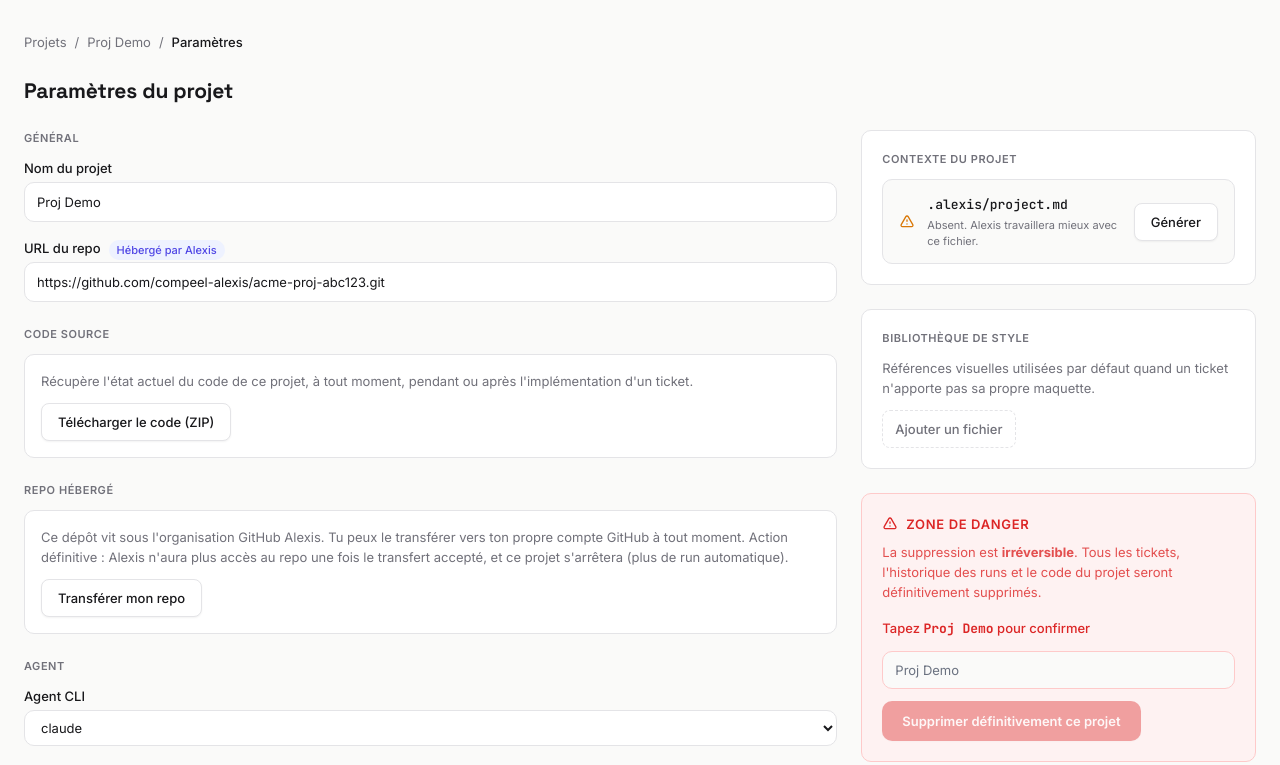
ProjectSettingsPage › transfers the hosted repo after confirmation
Click the button "Transférer mon repo" at (122, 598), box [41, 579, 202, 617]
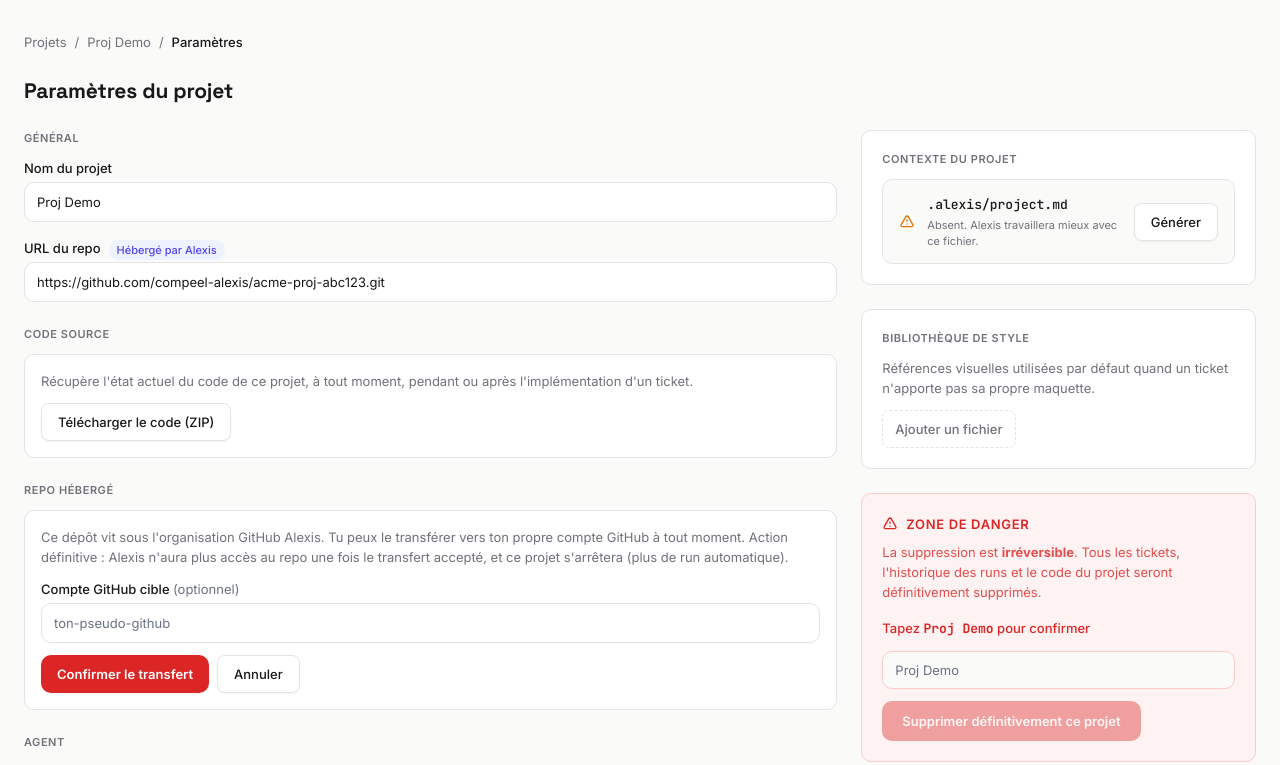
Type "octocat" into the field labelled "Compte GitHub cible (optionnel)" at (431, 623), box [41, 603, 820, 643]
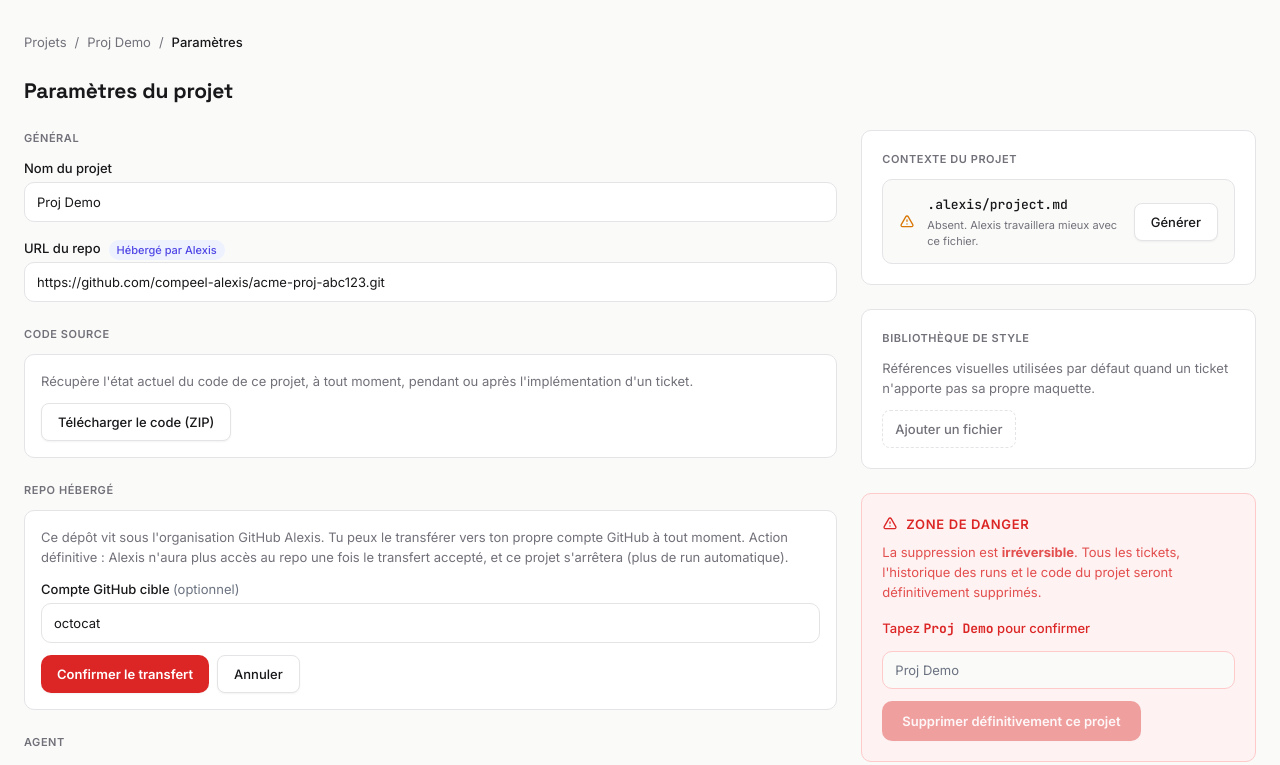
Click the button "Confirmer le transfert" at (125, 674), box [41, 655, 209, 693]
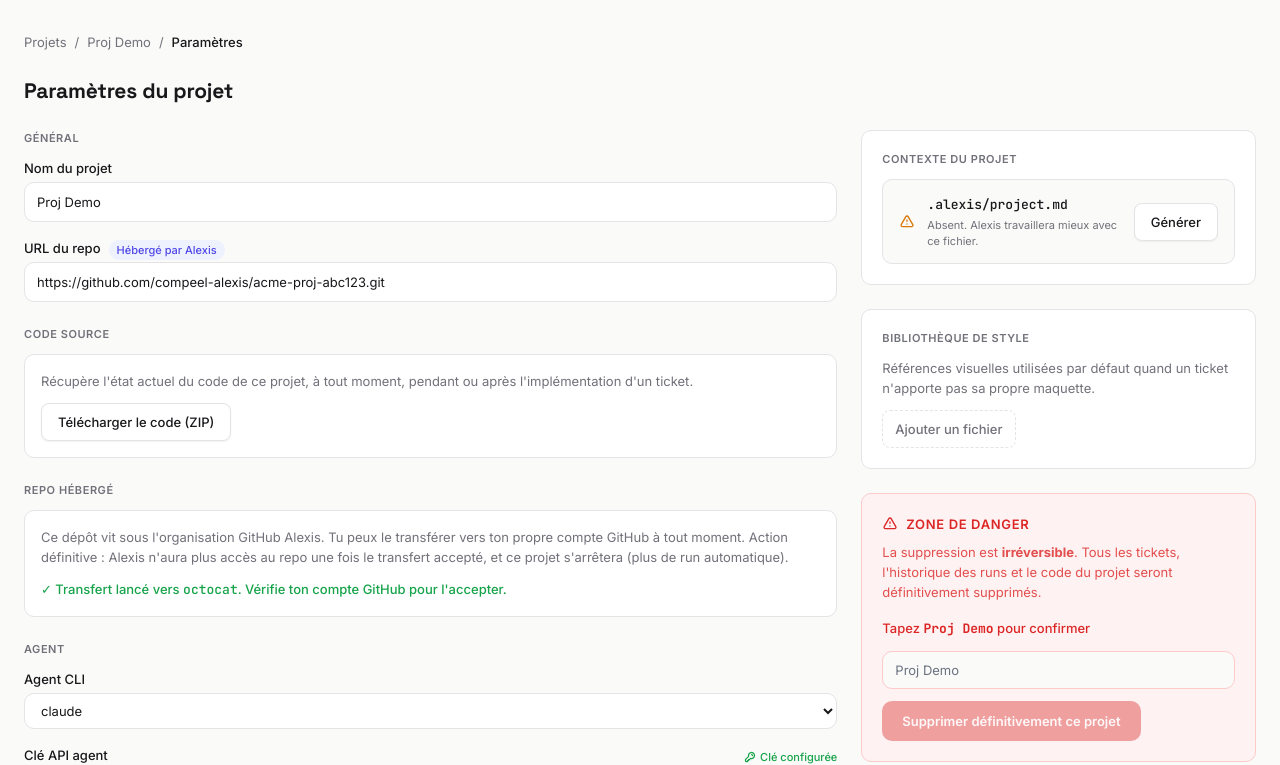
Check: the text "Transfert lancé vers" is shown, box [41, 581, 183, 597]
